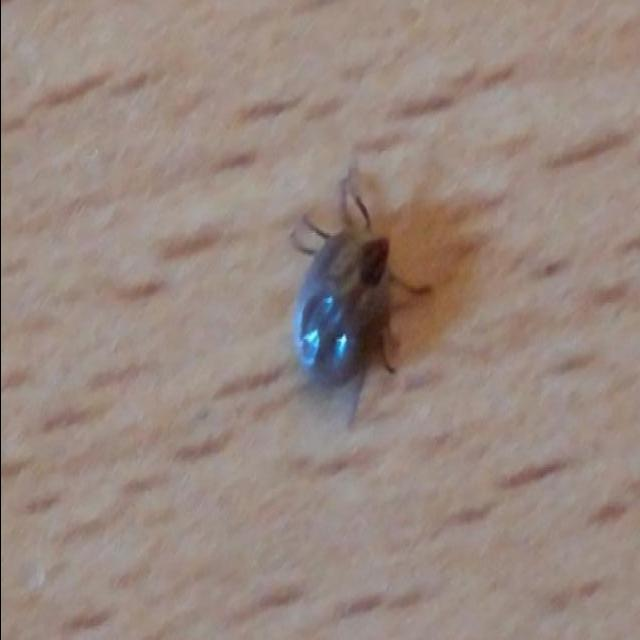Rhipicephalus Sanguineus-F-Fed: (292, 185, 432, 414)
